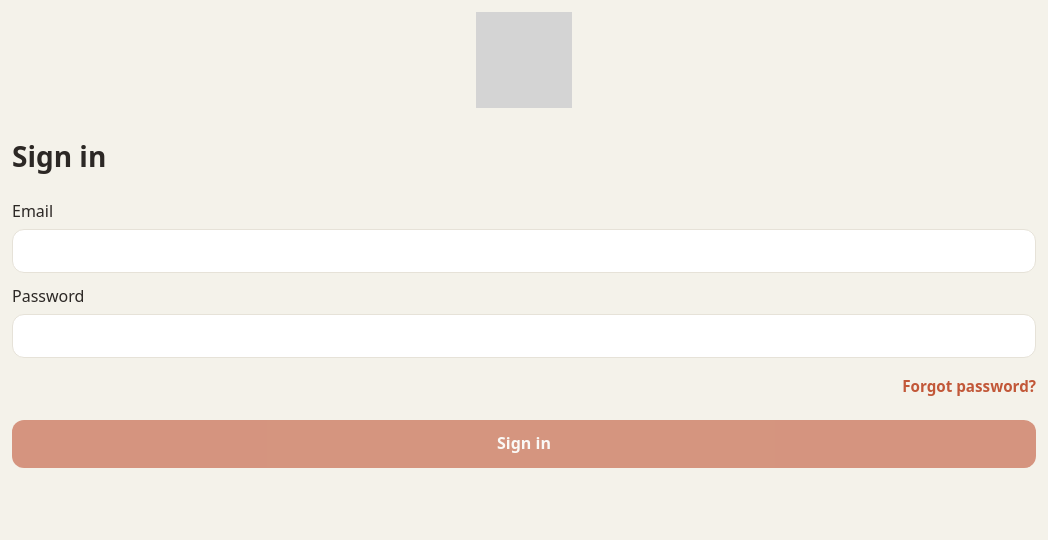
Test: LoginPage › shows a throttle message (429) without leaking anything else
In the field labelled "Email": (524, 251) x1=12 y1=229 x2=1036 y2=273, type "a@b.c"
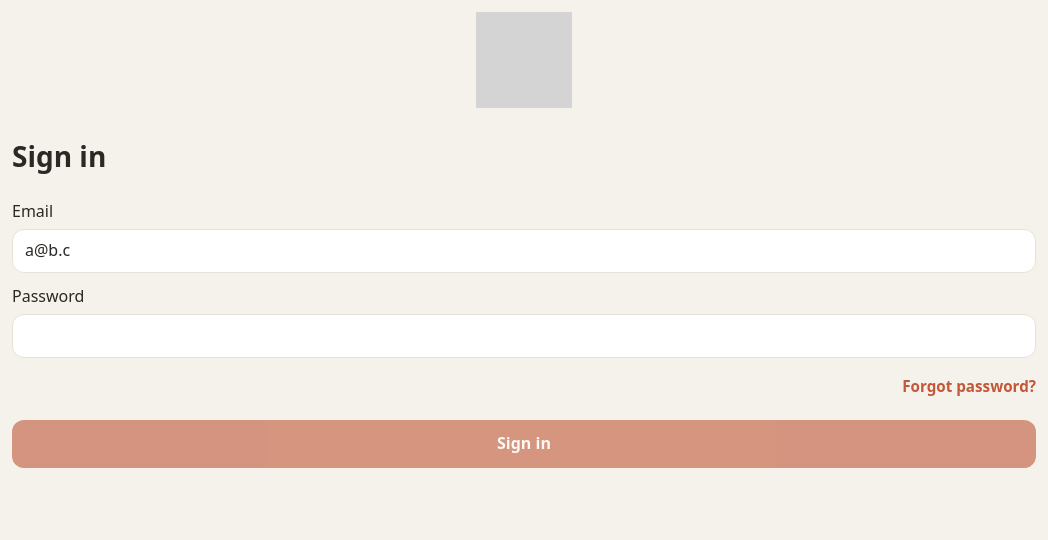
In the password field labelled "Password": (524, 336) x1=12 y1=314 x2=1036 y2=358, type "pw"
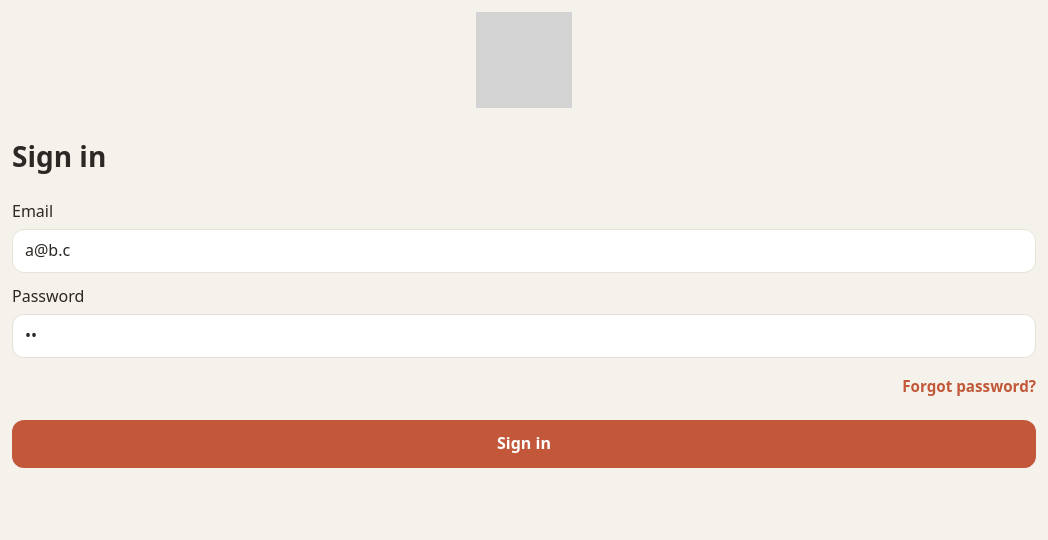
Click the button "Sign in": (524, 444) x1=12 y1=420 x2=1036 y2=468
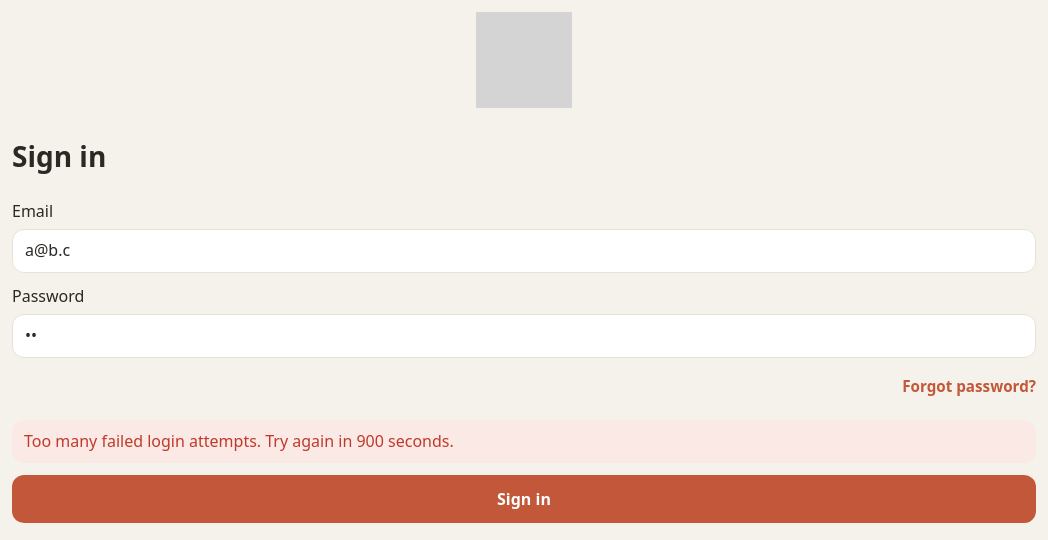
Expected: the message shows "Too many failed login attempts", x1=24 y1=430 x2=454 y2=452
